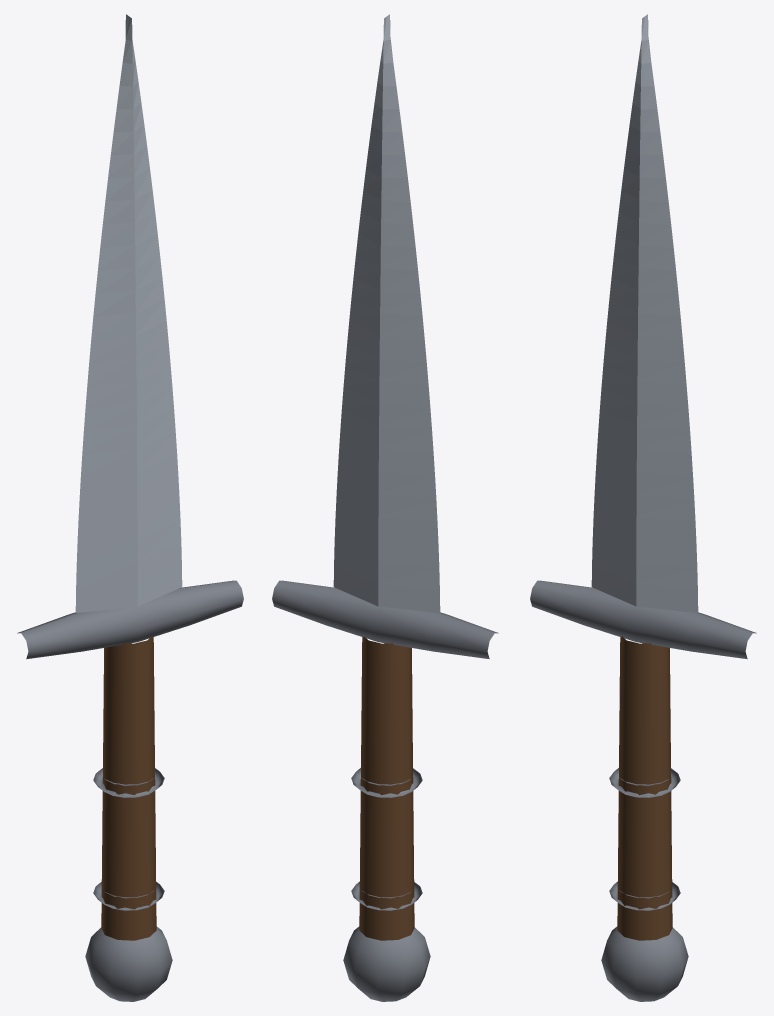
Rendered from dagger_0.glb.
3 renders of one model, left to right at view 1: azimuth 30°, elevation 25°; view 2: azimuth 150°, elevation 25°; view 3: azimuth 330°, elevation 25°, orthographic.
Visible parts, largest first — view 1: dagger_0; view 2: dagger_0; view 3: dagger_0.
Part boxes in pixels (x1,y1,x2,y2): dagger_0: (17, 14, 243, 1001); dagger_0: (272, 14, 498, 1001); dagger_0: (530, 14, 756, 1001).
Bounding box in the file's own units: 0.17 × 0.74 × 0.0571.
